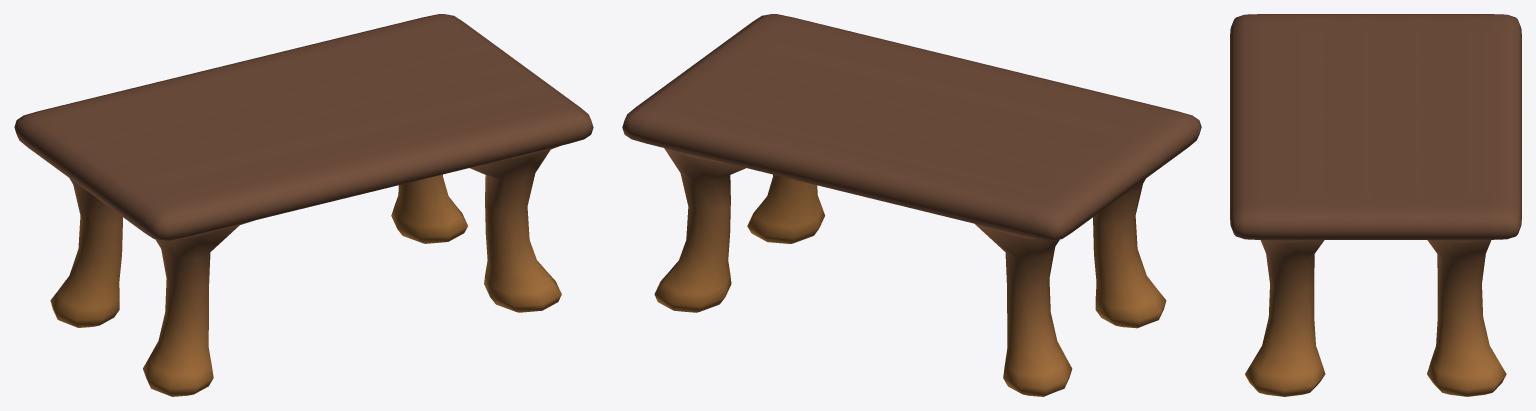
Rendered from table.fbx.
3 renders of one model, left to right at view 1: azimuth 30°, elevation 25°; view 2: azimuth 150°, elevation 25°; view 3: azimuth 270°, elevation 25°, orthographic. The views are drawn at different scales.
Visible parts, largest first — view 1: Table; view 2: Table; view 3: Table.
Boxes of the visible parts, x1=… form: Table: x1=14, y1=14, x2=593, y2=396; Table: x1=622, y1=14, x2=1201, y2=396; Table: x1=1230, y1=14, x2=1521, y2=396.
Bounding box in the file's own units: 159 × 68.99 × 93.25.
